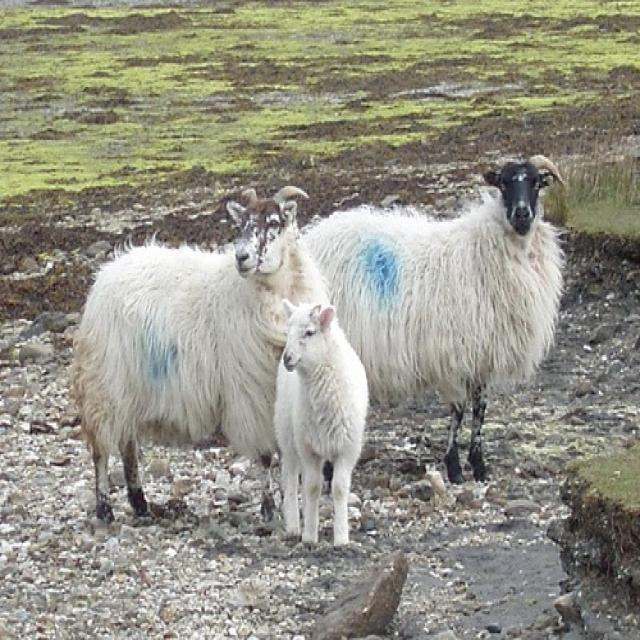sheep: (68, 182, 333, 530), (309, 146, 570, 487), (273, 295, 373, 554)
